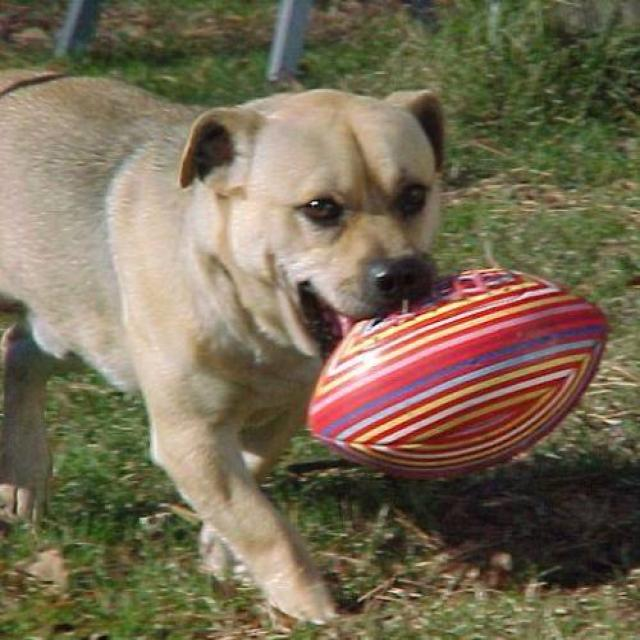dog: (0, 65, 445, 630)
